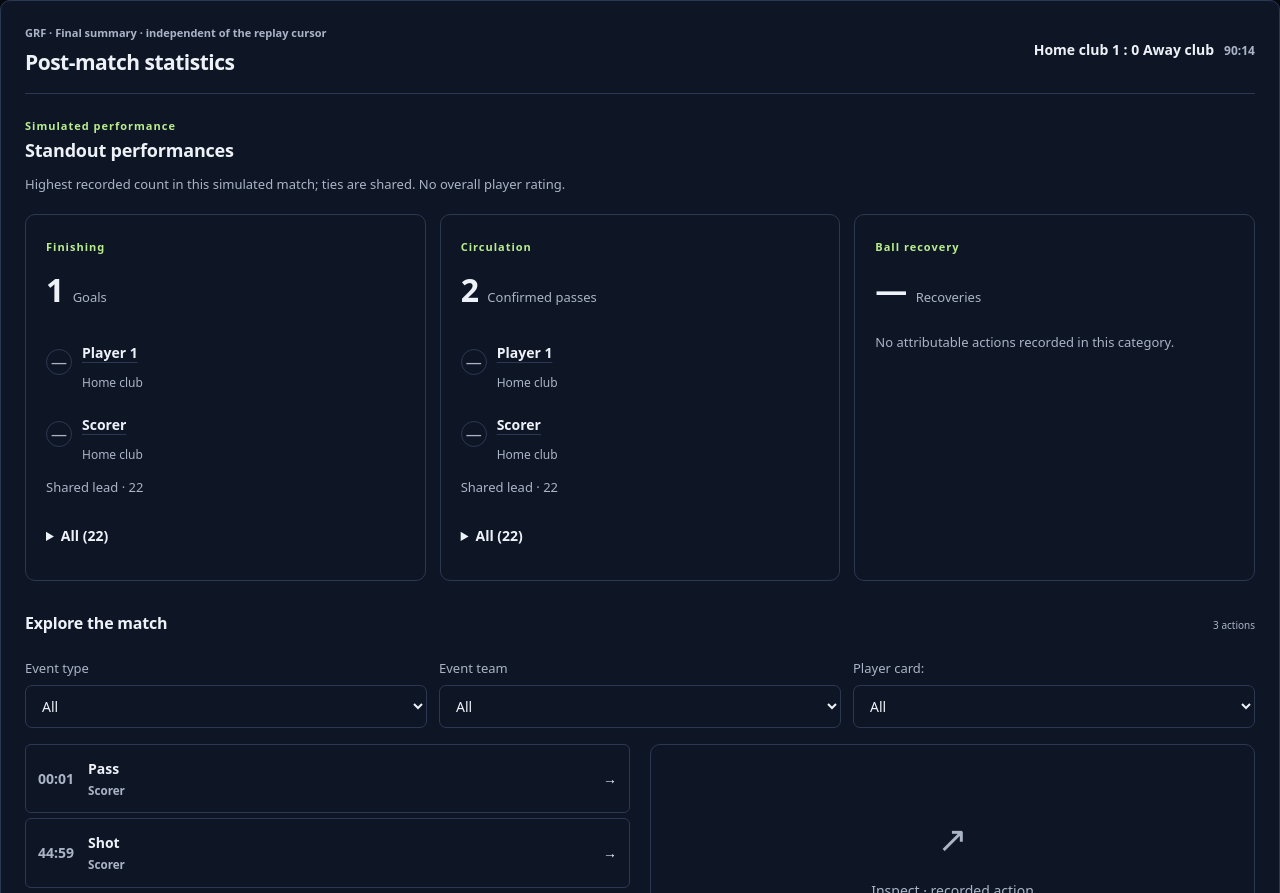
Scenario: opens an accessible player card, keeps missing history distinct and closes with Escape
Expected: the element "Standout performances" is shown, [25,114,1255,581]
Click the button named "Player card: Scorer" at (104, 425), box [82,404,126,446]
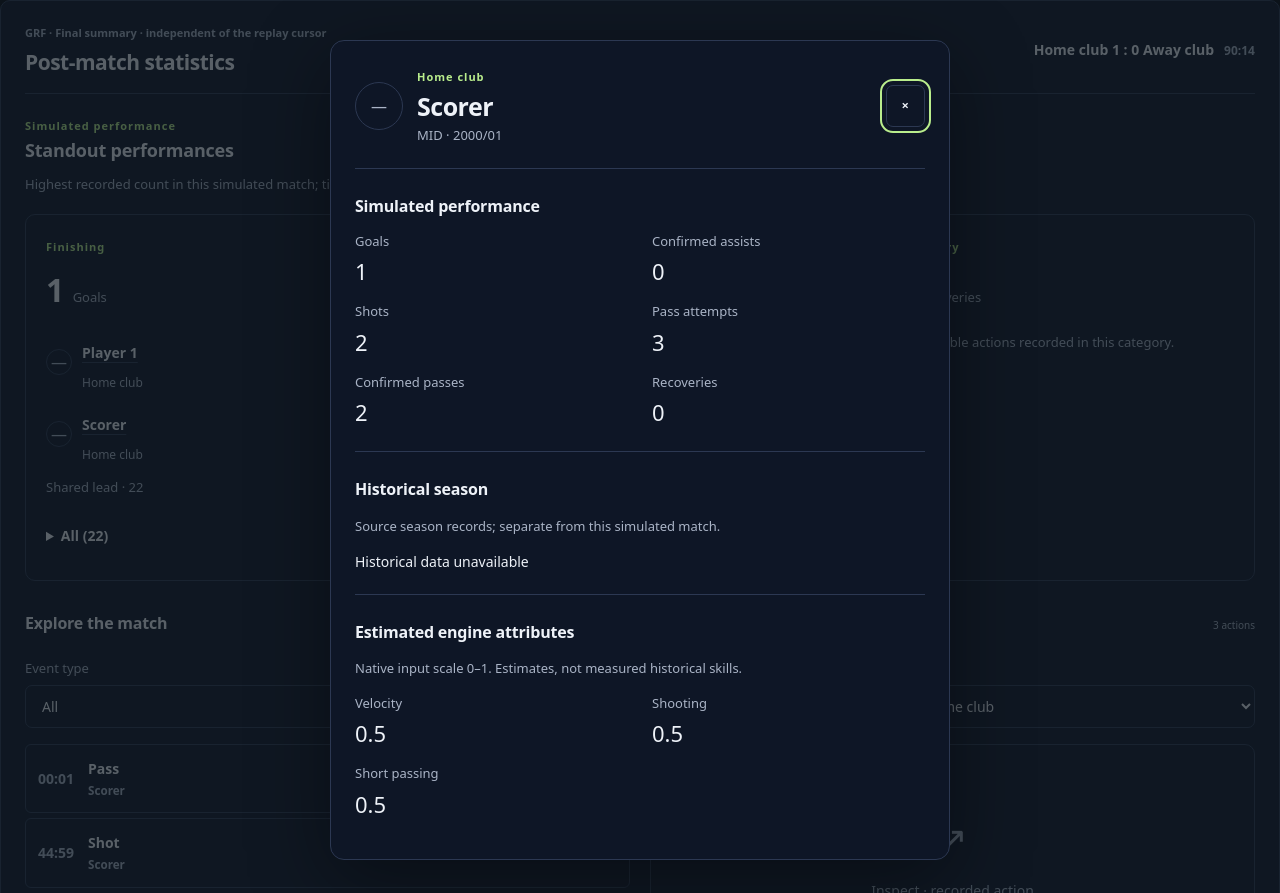
Expected: the heading "Simulated performance" is shown, [355,195,540,217]
Expected: the heading "Estimated engine attributes" is shown, [355,621,574,643]
Expected: the text "Historical data unavailable" is shown, [355,552,529,571]
Press Escape in the dialog "Scorer", box [330,40,950,860]
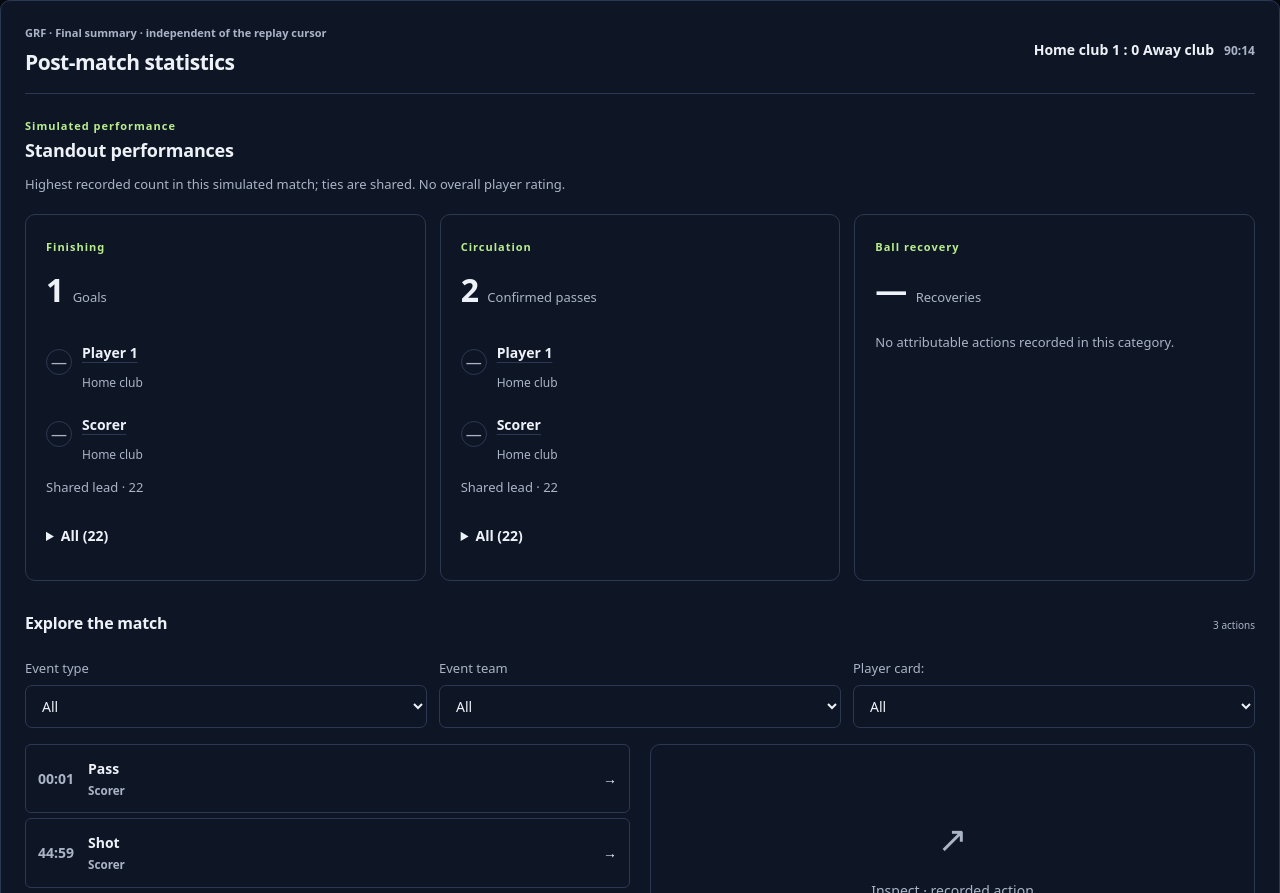
Expected: the dialog is gone
